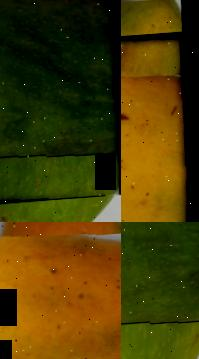Ripe: (0, 222, 121, 359), (121, 32, 198, 222)
Unripe: (0, 0, 121, 207), (121, 222, 199, 359)
